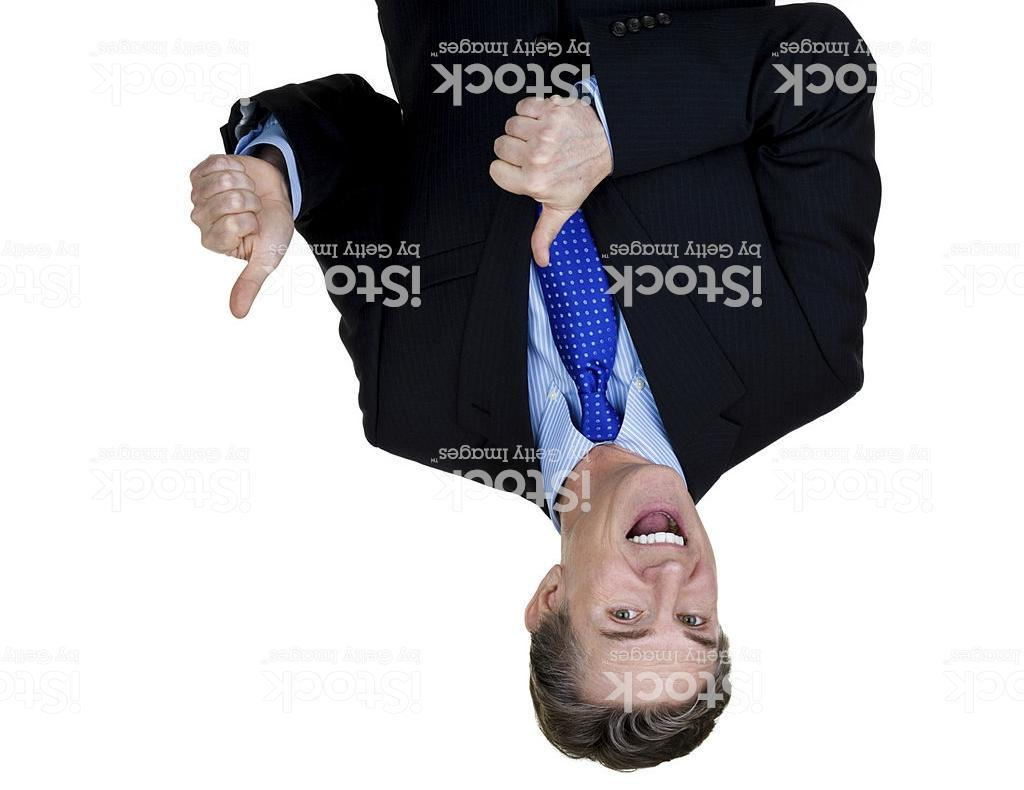thumbsdown: (486, 96, 572, 269), (188, 154, 272, 318)
